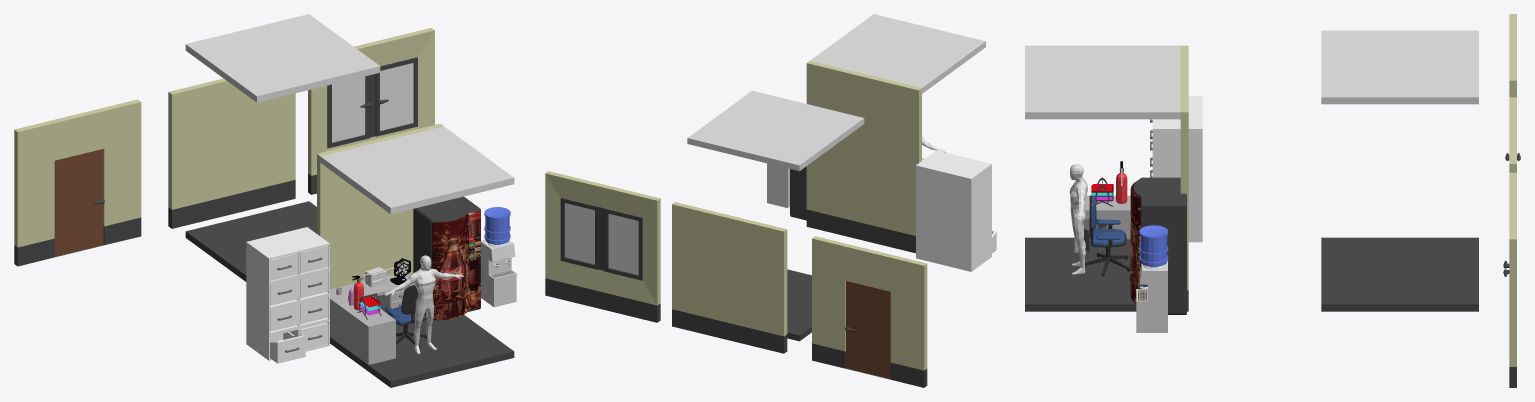
File: istenthekovulma (1).fbx
The picture shows the model from 3 angles, left to right: view 1: azimuth 30°, elevation 25°; view 2: azimuth 150°, elevation 25°; view 3: azimuth 270°, elevation 25°; orthographic projection. The views are drawn at different scales.
Visible parts, largest first — view 1: Wall.001, DoorWall, Cieling.001, Cieling, Wall, Vending Machine, Floor, FileCabinet, WindowWall, Door, Floor.001, Glass (+14 smaller); view 2: Wall, Wall.001, DoorWall, WindowWall, Cieling.001, FileCabinet, Cieling, Door, Glass, WindowCase, Floor.001, Debil (+1 smaller); view 3: Floor.001, Cieling.001, Cieling, Floor, Vending Machine, FileCabinet, Debil, WindowWall, Wall, OfficeChair, Plane, Damacana (+4 smaller).
Part boxes in pixels (box(x1,y1,x2,y2)): Wall.001: box(168, 78, 295, 228); DoorWall: box(14, 99, 141, 266); Cieling.001: box(185, 14, 380, 102); Cieling: box(319, 126, 514, 214); Wall: box(317, 123, 443, 289); Vending Machine: box(413, 196, 480, 320); Floor: box(330, 315, 514, 387); FileCabinet: box(246, 227, 329, 360); WindowWall: box(308, 28, 434, 194); Door: box(54, 149, 103, 256); Floor.001: box(185, 201, 316, 281); Glass: box(332, 63, 413, 142); Wall: box(806, 61, 921, 253); Wall.001: box(672, 202, 787, 353); DoorWall: box(812, 236, 927, 387); WindowWall: box(545, 171, 660, 322); Cieling.001: box(687, 90, 864, 171); FileCabinet: box(916, 150, 991, 271); Cieling: box(810, 14, 985, 93); Door: box(846, 281, 890, 378); Glass: box(565, 203, 638, 274); WindowCase: box(560, 198, 642, 280); Floor.001: box(787, 269, 811, 341); Debil: box(767, 163, 789, 207); Floor.001: box(1321, 237, 1478, 311); Cieling.001: box(1321, 30, 1478, 104); Cieling: box(1025, 45, 1180, 119); Floor: box(1025, 237, 1136, 311); Vending Machine: box(1130, 177, 1186, 314); FileCabinet: box(1152, 96, 1202, 242); Debil: box(1136, 260, 1167, 332); WindowWall: box(1509, 172, 1516, 387); Wall: box(1180, 45, 1188, 311); OfficeChair: box(1085, 195, 1130, 276); Plane: box(1069, 164, 1087, 274); Damacana: box(1139, 225, 1168, 267).
Bounding box in the file's own units: 921 × 411 × 857.
Materials: 51 (2 with a texture image).
